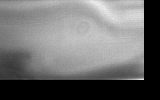cell: (61, 13, 103, 39), (69, 15, 92, 35), (75, 19, 93, 37)
